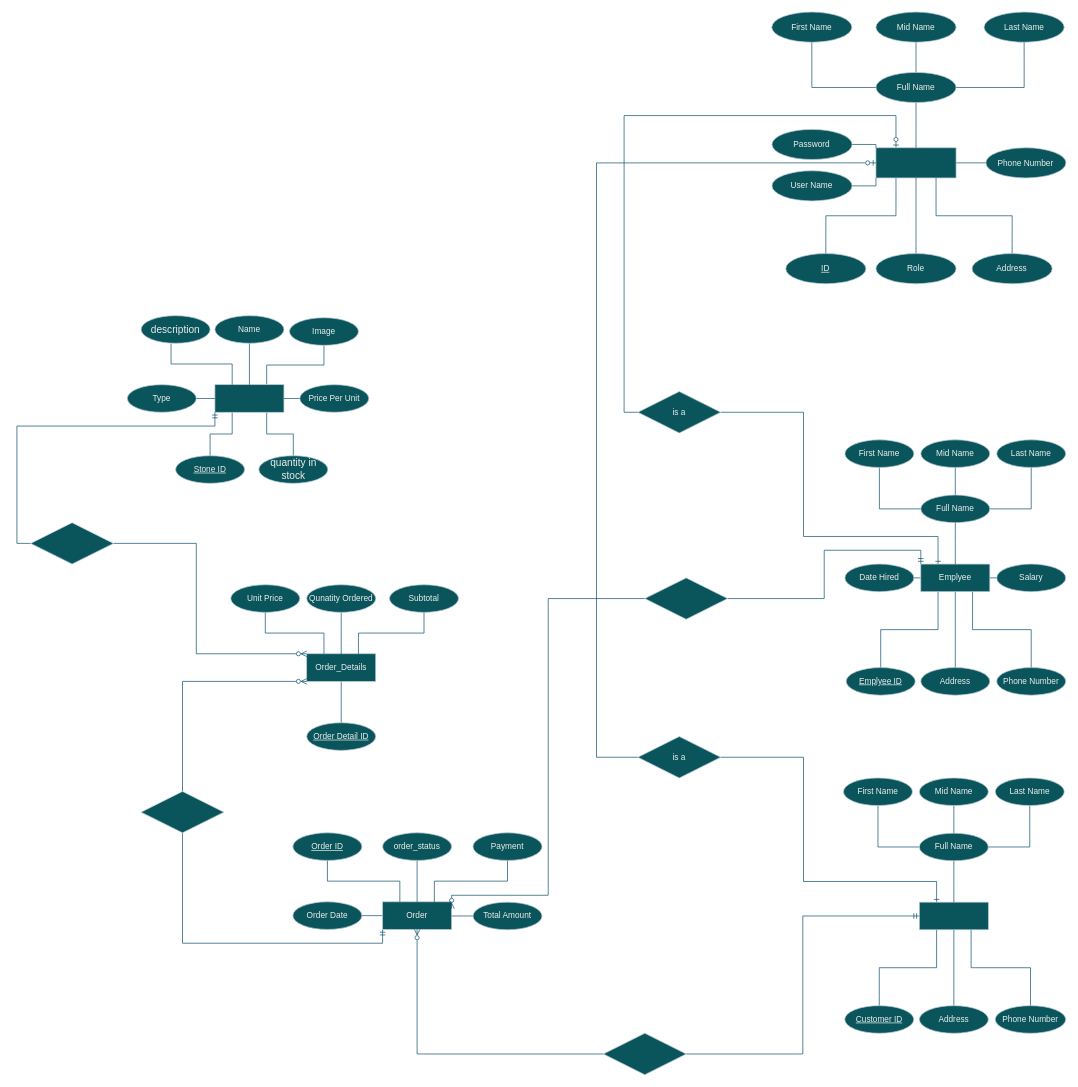
The diagram is 1078 pixels wide and 1087 high, and some of its shapes have lost their labels. The centre of each missing label's shape, as x and y in pixels:
"Contians" belongs at pixel 182 812.
"Customer" belongs at pixel 953 915.
"handles" belongs at pixel 686 598.
"Included In" belongs at pixel 72 543.
"Places" belongs at pixel 644 1054.
"stones" belongs at pixel 249 398.
"User" belongs at pixel 915 162.
